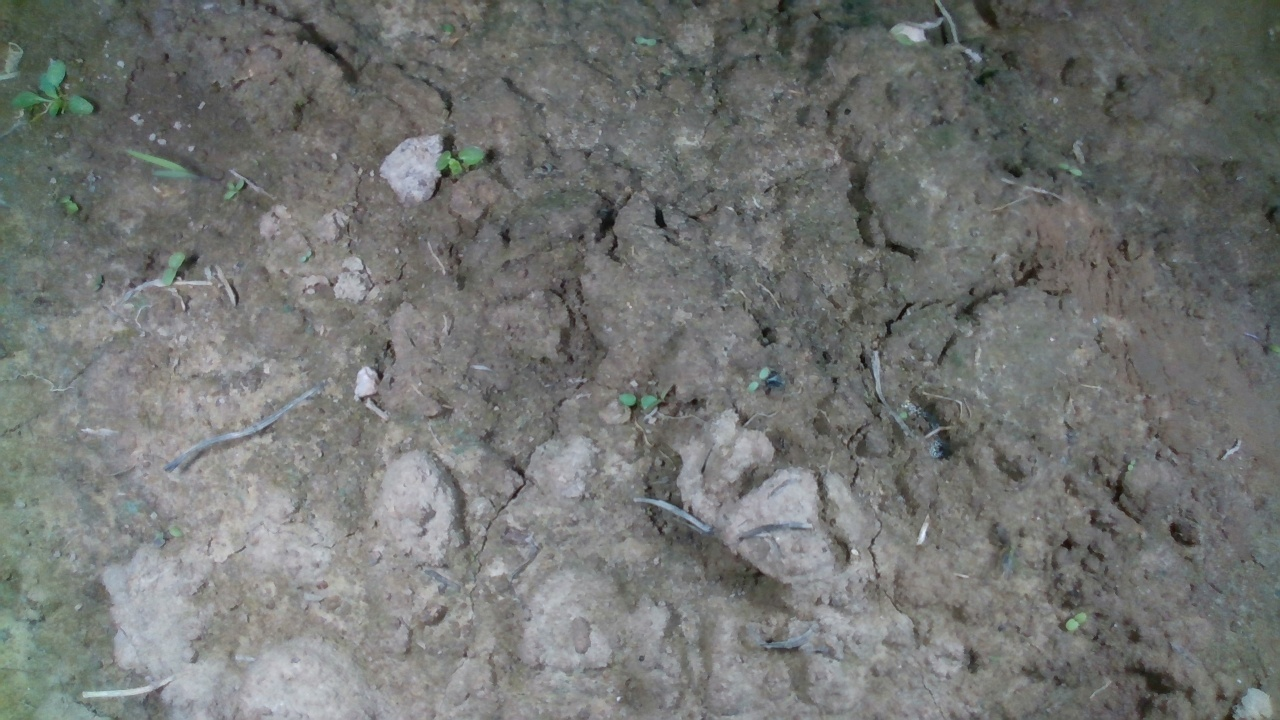weed: (161, 250, 184, 287), (746, 364, 769, 394), (1062, 611, 1087, 632), (223, 177, 245, 199)
